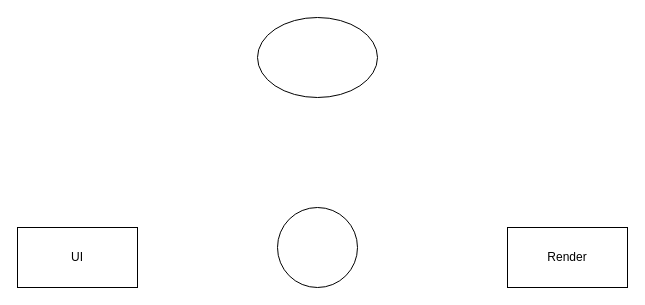
Image size: 645x305. Some labels were removed from this diagram. Here are the shapes that lost their labels. From the top down, the centre of each, then its label:
At [317,57]: "signals".
At [317,247]: "control".
